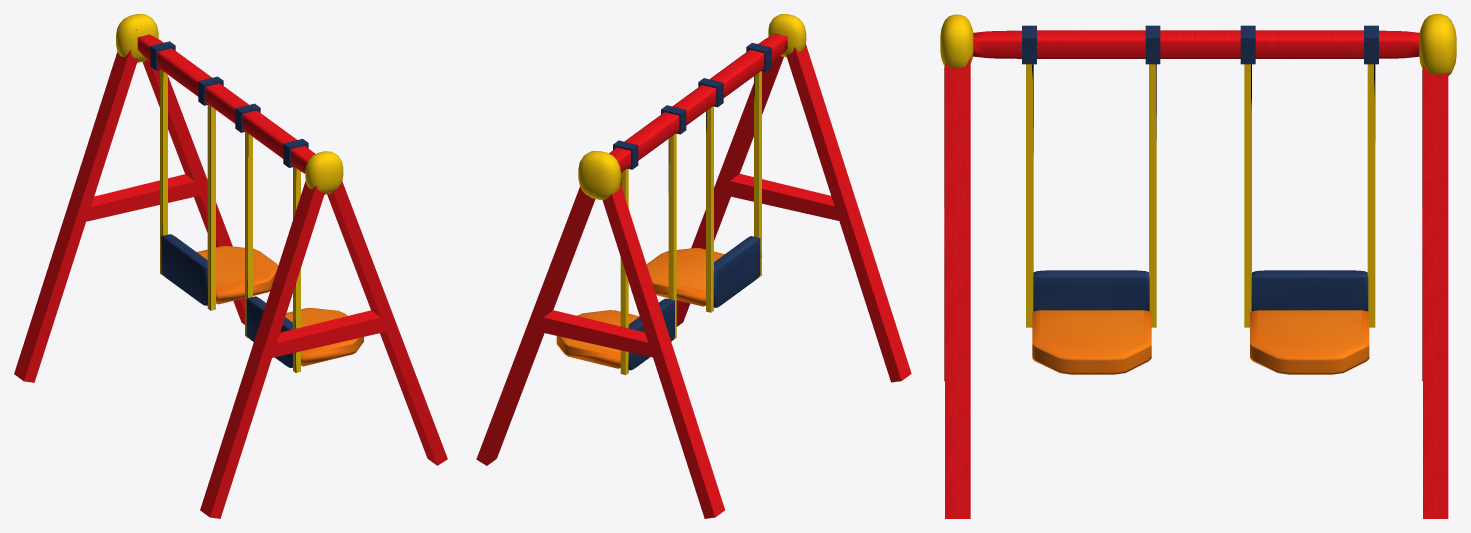
The model's file is swing.glb.
3 renders of one model, left to right at view 1: azimuth 30°, elevation 25°; view 2: azimuth 150°, elevation 25°; view 3: azimuth 270°, elevation 25°, orthographic. The views are drawn at different scales.
Visible parts, largest first — view 1: Cube.002, Cube.006, Cube.001, Cube.007, Cube.013, Cube.010, Cube.011, Cube.012; view 2: Cube.002, Cube.006, Cube.001, Cube.007, Cube.012, Cube.011, Cube.010, Cube.013; view 3: Cube.002, Cube.007, Cube.001, Cube.006, Cube.013, Cube.012, Cube.011, Cube.010, Cube.005, Cube, Cube.003, Cube.004.
Boxes of the visible parts, x1,y1,x2,y2 form: Cube.002: (14,29,447,518); Cube.006: (160,69,300,372); Cube.001: (137,34,315,173); Cube.007: (197,246,363,366); Cube.013: (161,234,207,305); Cube.010: (305,151,343,194); Cube.011: (116,14,158,62); Cube.012: (246,296,292,367); Cube.002: (476,44,911,518); Cube.006: (620,71,761,375); Cube.001: (609,33,787,172); Cube.007: (556,248,724,368); Cube.012: (713,236,760,307); Cube.011: (578,151,620,199); Cube.010: (768,14,806,57); Cube.013: (628,298,674,370); Cube.002: (944,23,1448,518); Cube.007: (1032,310,1369,374); Cube.001: (972,30,1419,58); Cube.006: (1026,64,1375,327); Cube.013: (1251,270,1368,311); Cube.012: (1033,270,1149,311); Cube.011: (1419,14,1456,75); Cube.010: (940,14,973,68); Cube.005: (1240,25,1255,64); Cube: (1145,25,1160,64); Cube.003: (1022,25,1036,64); Cube.004: (1364,25,1378,64).
Bounding box in the file's own units: 12.99 × 17.49 × 18.98.
4 materials, 4 textured.
